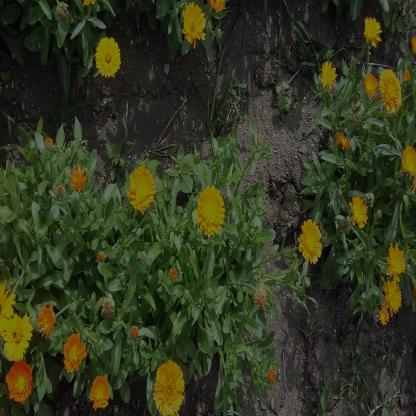marigold: (153, 365, 183, 414), (198, 185, 224, 233), (4, 361, 32, 402), (5, 317, 32, 358), (130, 166, 154, 212), (300, 217, 322, 264), (95, 37, 120, 76), (183, 2, 204, 45), (381, 67, 400, 111), (63, 335, 87, 369), (90, 374, 110, 408), (382, 279, 402, 313), (388, 242, 405, 278), (38, 306, 55, 336), (351, 195, 366, 228), (365, 16, 380, 44), (402, 145, 415, 174), (322, 60, 336, 85), (365, 73, 377, 97)
